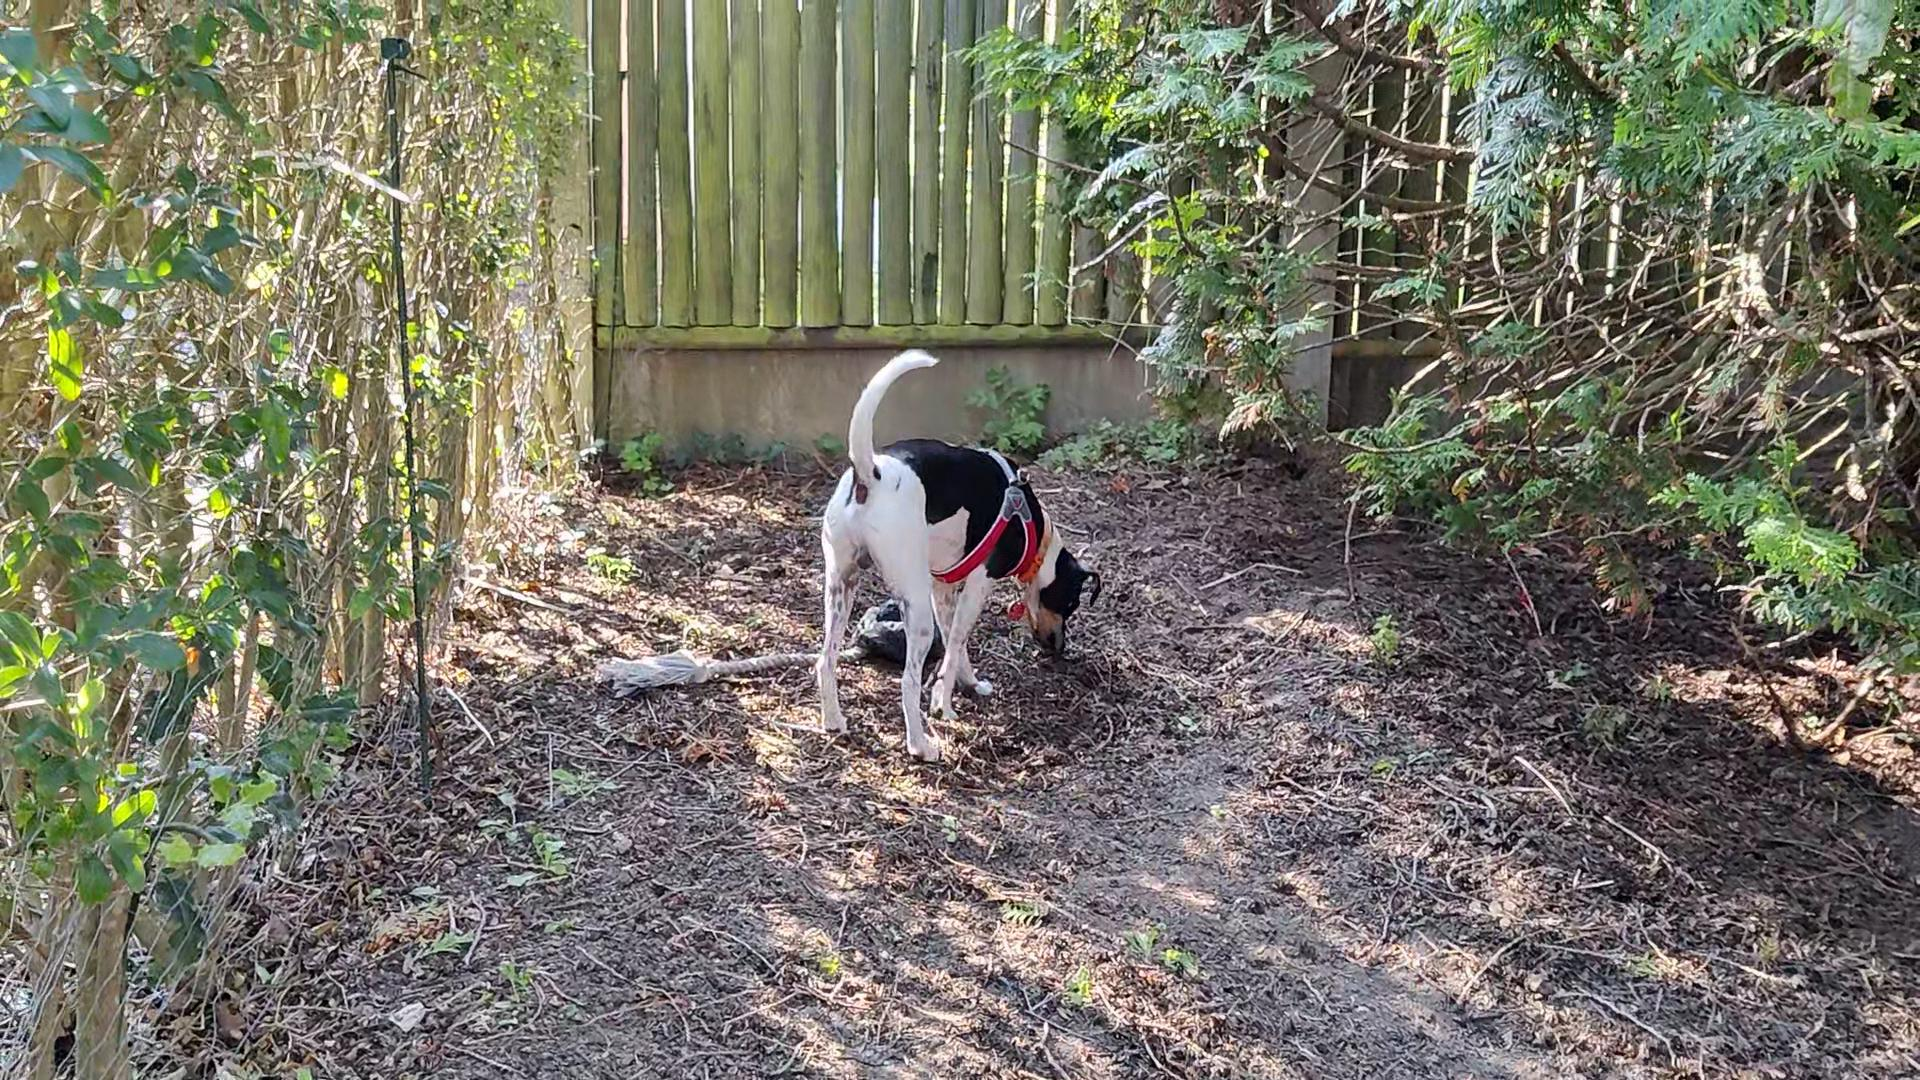Dog: (800, 331, 1114, 771)
